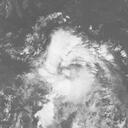cyclone: (37, 27, 96, 100)
